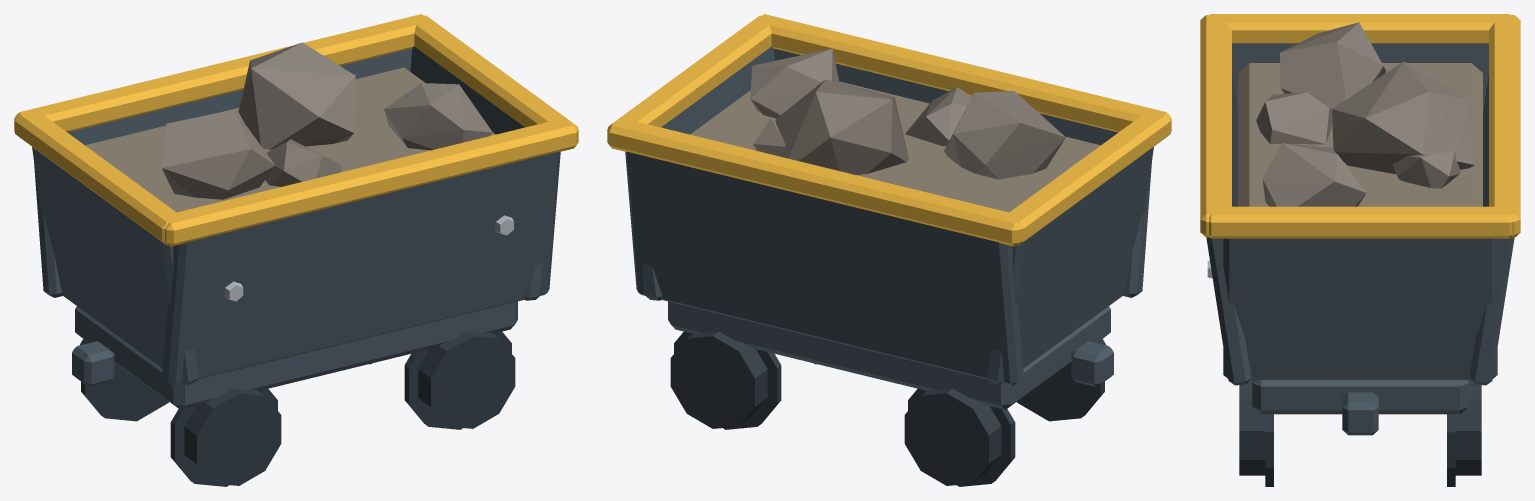
The model's file is Mine_Cart.fbx.
The picture shows the model from 3 angles, left to right: view 1: azimuth 30°, elevation 25°; view 2: azimuth 150°, elevation 25°; view 3: azimuth 270°, elevation 25°; orthographic projection.
Parts seen in each view (by area): view 1: Frame, Amber_Metal, Cliff, FrameDark, Gravel, SteelLight; view 2: Frame, Amber_Metal, Cliff, FrameDark, Gravel; view 3: Frame, Amber_Metal, Cliff, Gravel, FrameDark.
Part boxes in pixels (left/top/right/bottom): Frame: left=32, top=46, right=560, bottom=409; Amber_Metal: left=14, top=14, right=578, bottom=246; Cliff: left=162, top=42, right=492, bottom=199; FrameDark: left=79, top=331, right=515, bottom=486; Gravel: left=85, top=67, right=495, bottom=212; SteelLight: left=224, top=215, right=513, bottom=301; Frame: left=625, top=46, right=1153, bottom=409; Amber_Metal: left=607, top=14, right=1171, bottom=246; Cliff: left=750, top=48, right=1065, bottom=179; FrameDark: left=670, top=331, right=1106, bottom=486; Gravel: left=690, top=81, right=1100, bottom=212; Frame: left=1206, top=43, right=1514, bottom=435; Amber_Metal: left=1200, top=14, right=1520, bottom=238; Cliff: left=1256, top=22, right=1475, bottom=206; Gravel: left=1238, top=63, right=1482, bottom=206; FrameDark: left=1239, top=380, right=1481, bottom=486.
Size of the model in its own units: 3.55 by 2.7 by 2.22.
